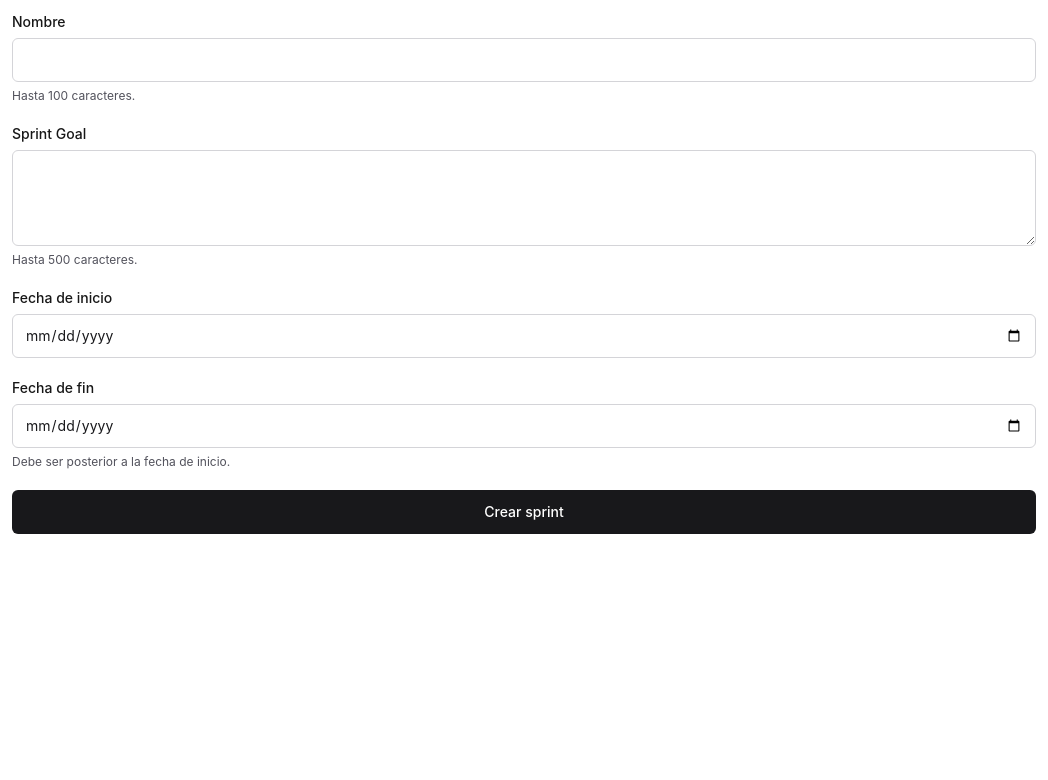
Test: 004/US1 - Planificar un sprint › Fechas contiguas
Type "Sprint 2" into the field labelled "Nombre" at (524, 60), box [12,38,1036,82]
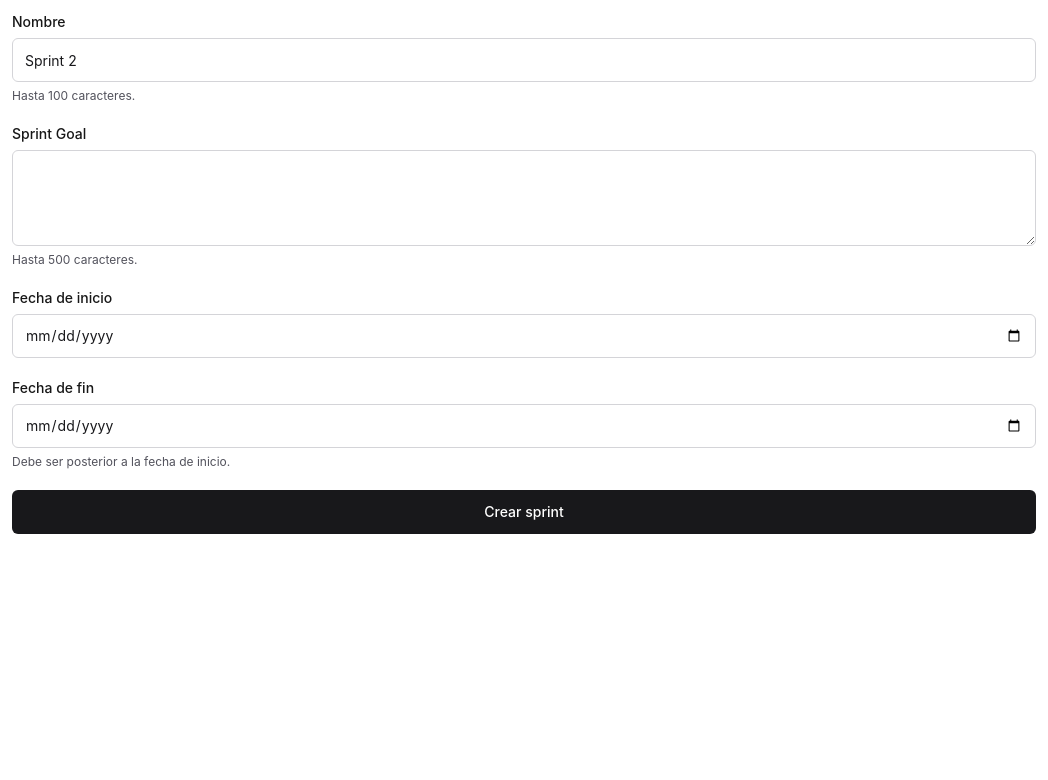
Type "Cerrar el alta de clientes" into the text box labelled "Sprint Goal" at (524, 198), box [12,150,1036,246]
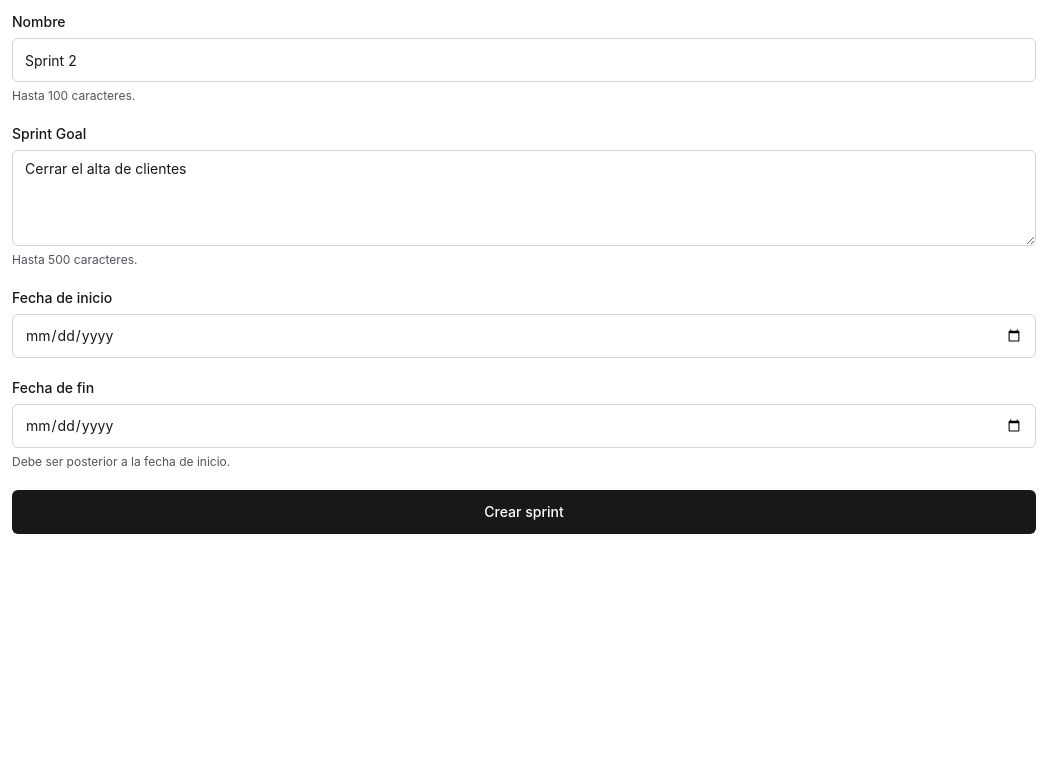
Type "2026-10-14" into the date field labelled "Fecha de inicio" at (524, 336), box [12,314,1036,358]
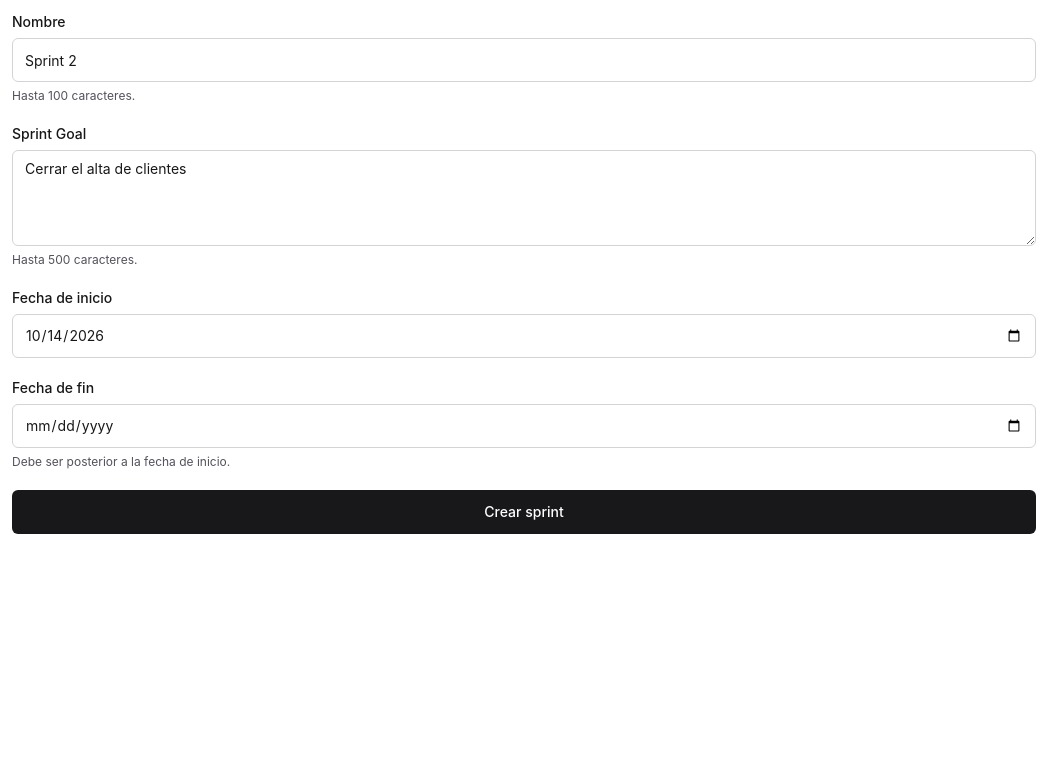
Type "2026-10-28" into the date field labelled "Fecha de fin" at (524, 426), box [12,404,1036,448]
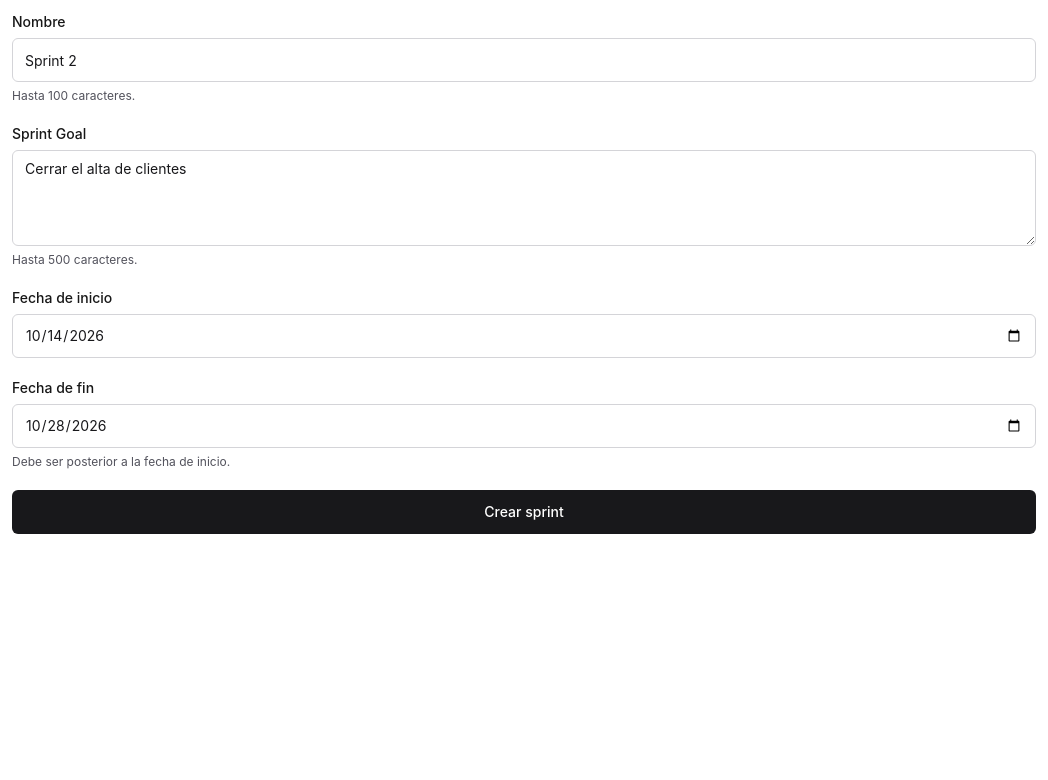
Click the button "Crear sprint" at (524, 512), box [12,490,1036,534]
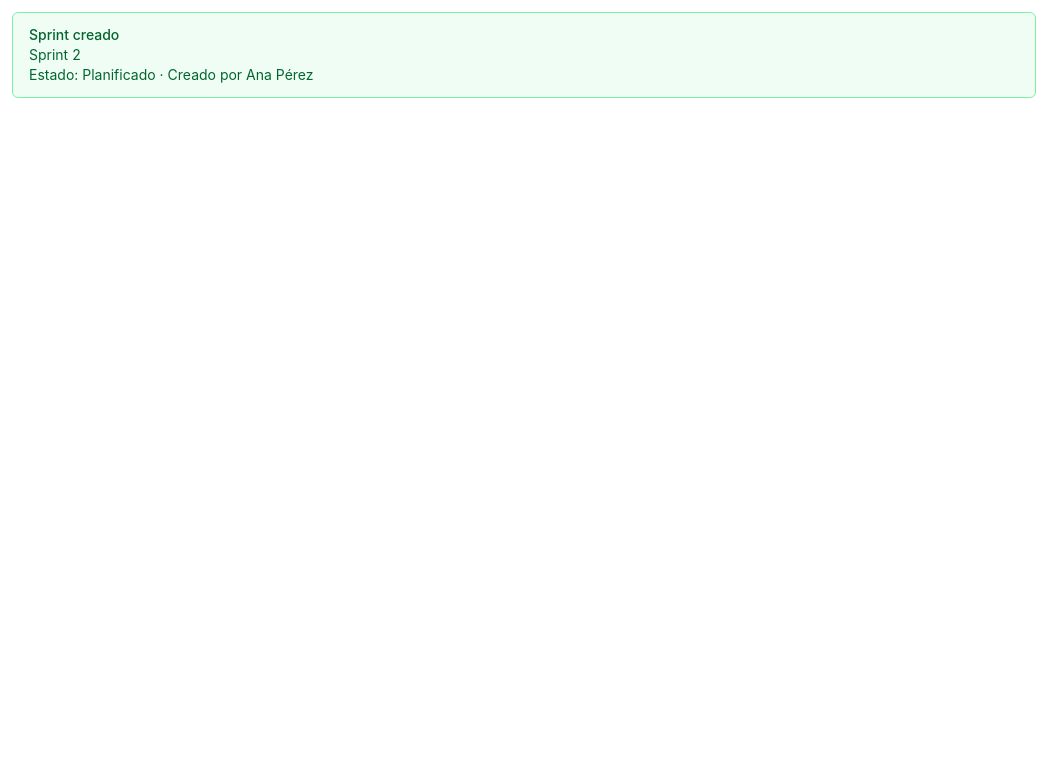
Result: the text "Sprint creado" is shown at [29,26,119,43]
